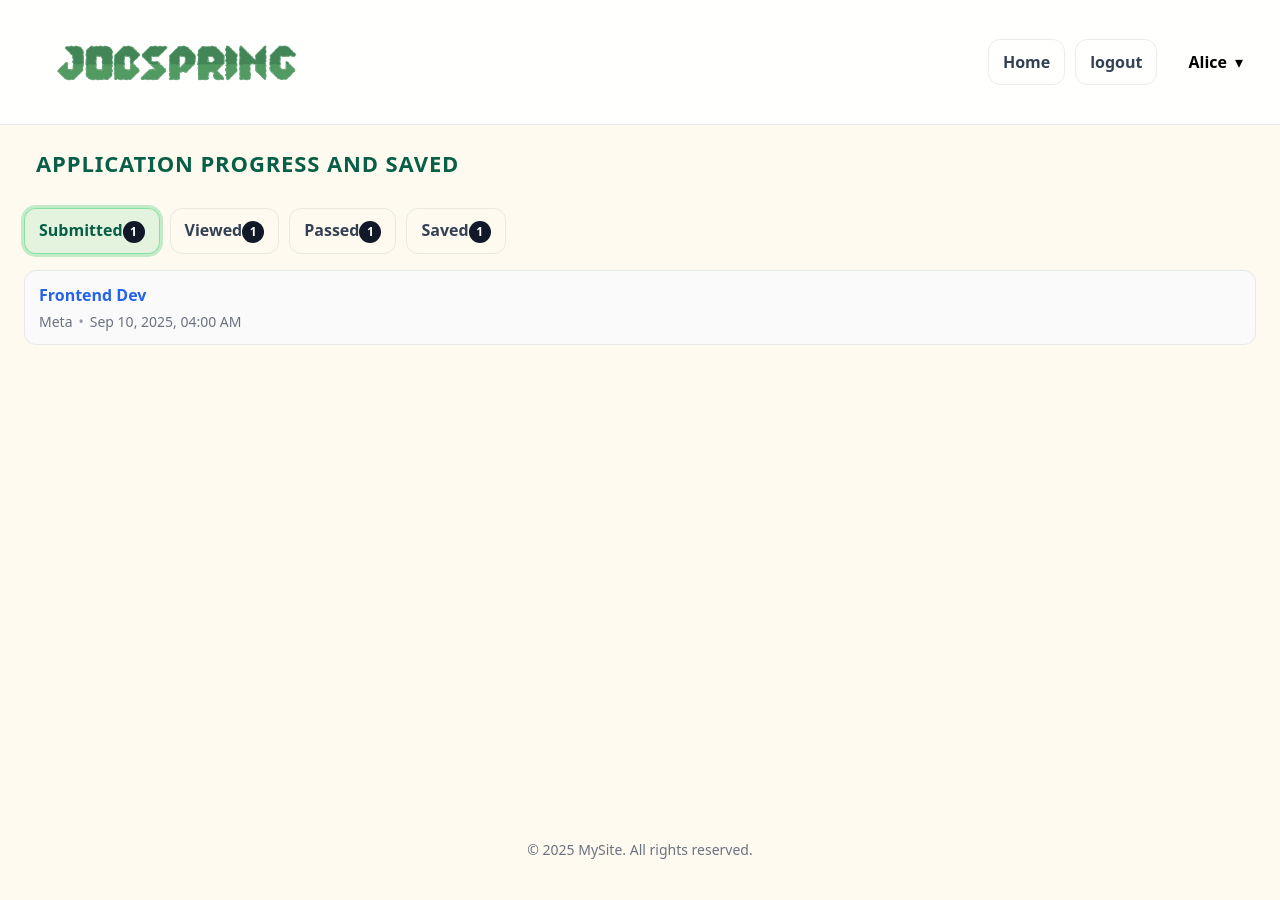
switches to viewed and shows correct job
Click the tab "Viewed 1" at (224, 231), box [170,208,279,254]
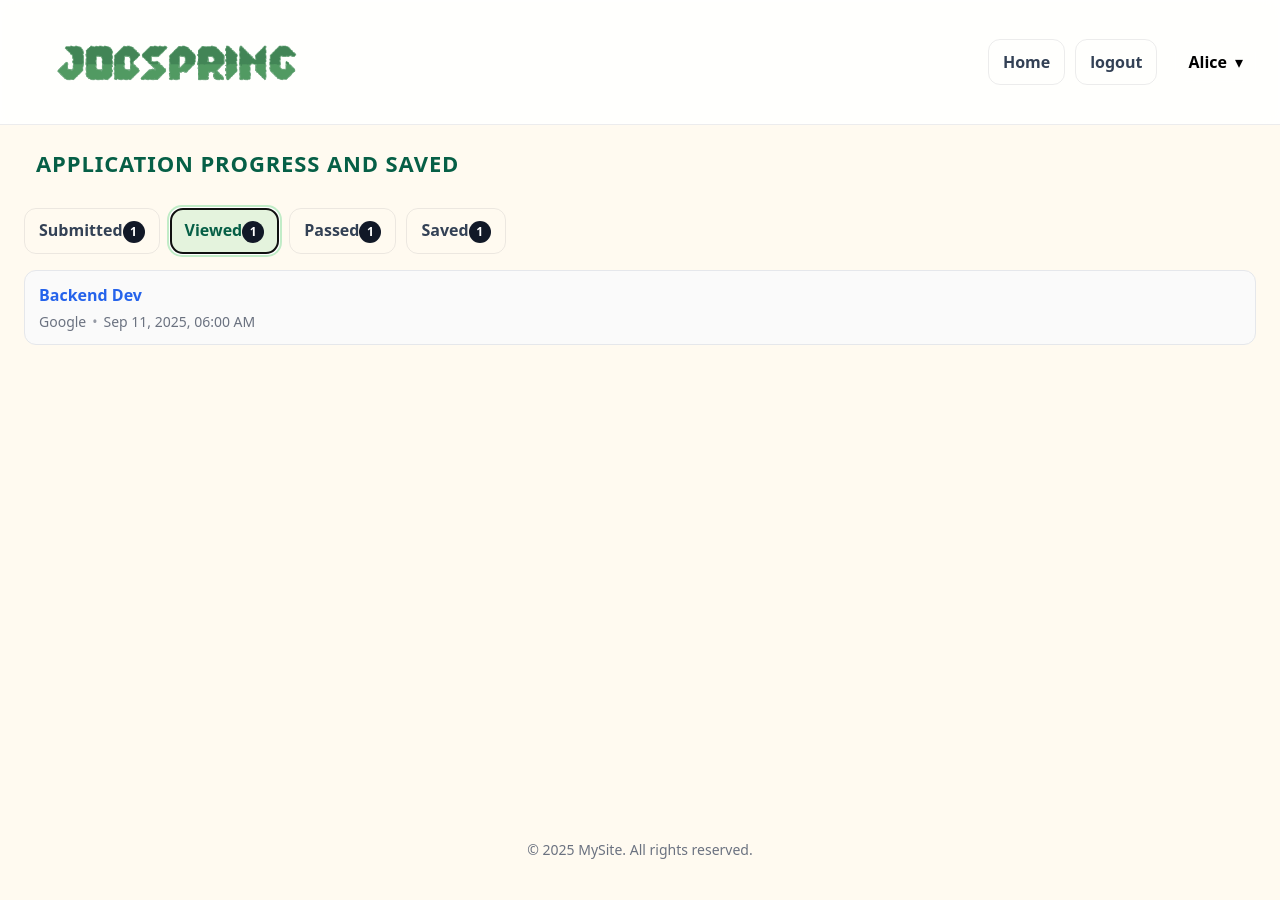
Expected: the link "Backend Dev" is shown, [39,284,142,306]
Expected: the text "Google" is shown, [39,310,86,332]
